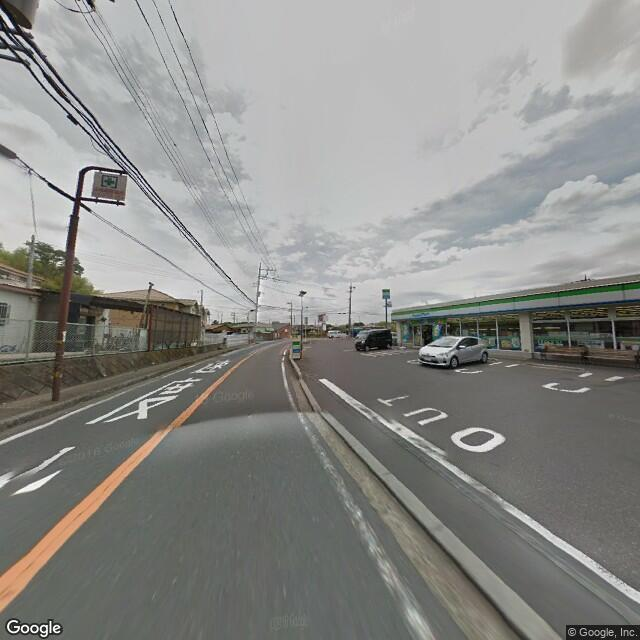family_mart: (390, 277, 639, 323)
